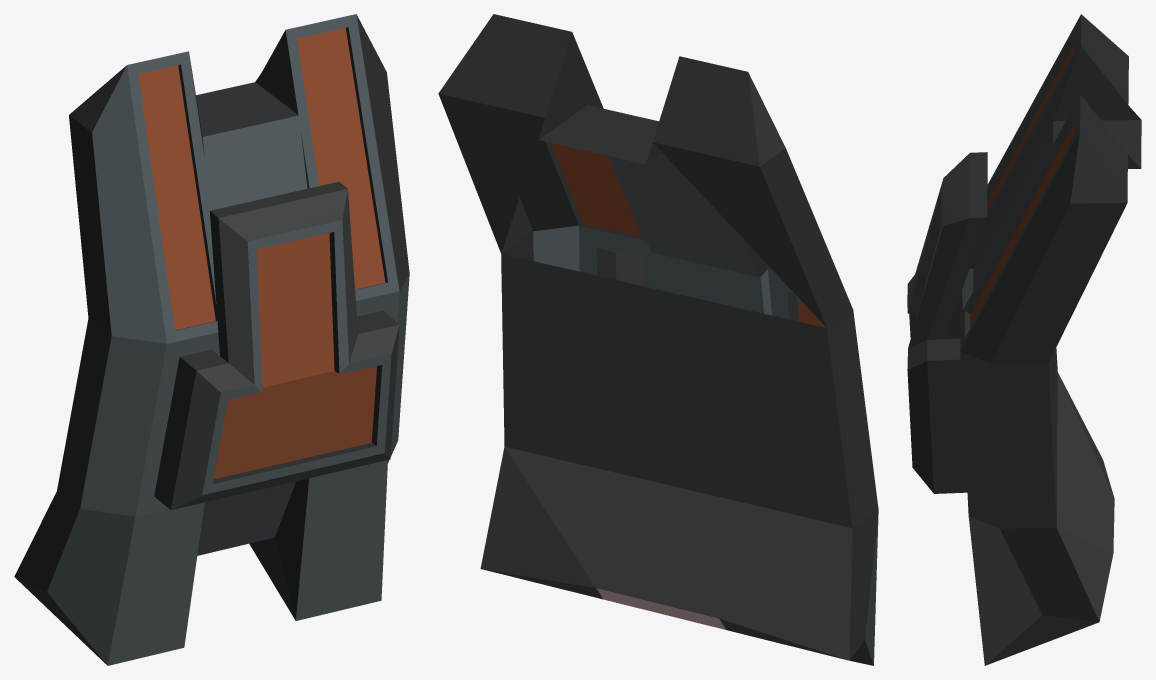
The model's file is Health Upgrade #2.fbx.
3 views of the same model, side by side, from view 1: azimuth 30°, elevation 25°; view 2: azimuth 150°, elevation 25°; view 3: azimuth 270°, elevation 25° (orthographic). The views are drawn at different scales.
Visible parts, largest first — view 1: Health Upgrade #2; view 2: Health Upgrade #2; view 3: Health Upgrade #2.
Boxes of the visible parts, left/top/right/bottom form: Health Upgrade #2: left=14, top=14, right=409, bottom=665; Health Upgrade #2: left=438, top=14, right=878, bottom=665; Health Upgrade #2: left=907, top=14, right=1141, bottom=665.
Size of the model in its own units: 84.84 by 125 by 48.27.
